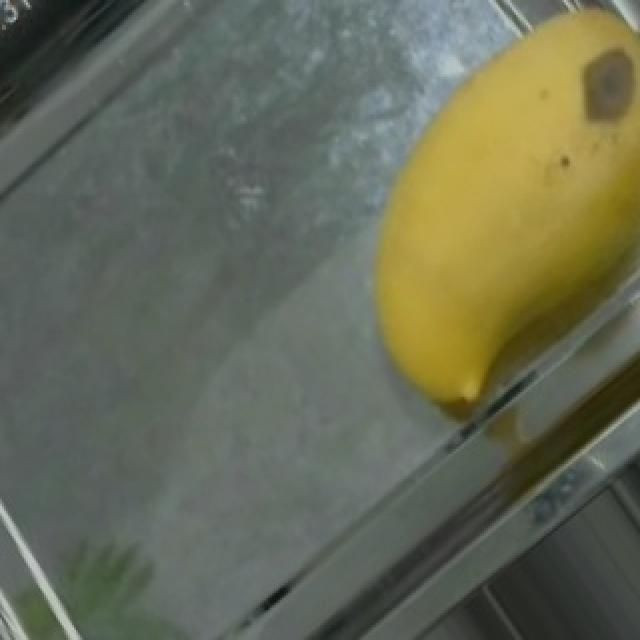fruit: (314, 0, 640, 389)
